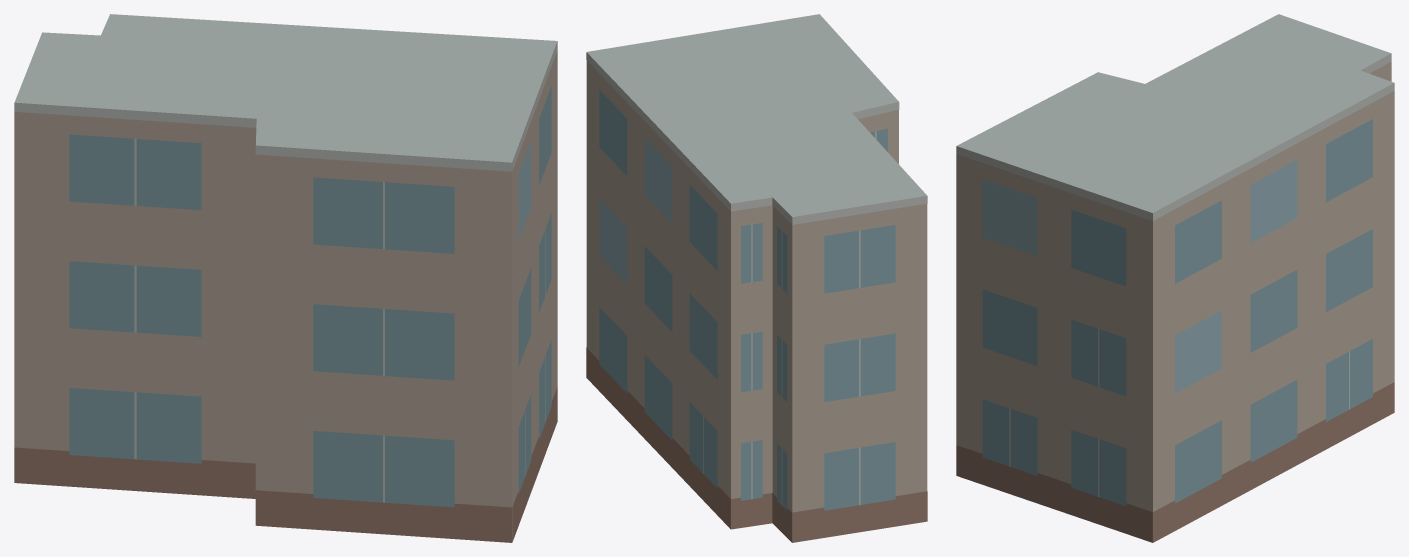
The model's file is survey-upis-32546760.glb.
The picture shows the model from 3 angles, left to right: view 1: azimuth 30°, elevation 25°; view 2: azimuth 150°, elevation 25°; view 3: azimuth 270°, elevation 25°; orthographic projection. The views are drawn at different scales.
Visible parts, largest first — view 1: survey-upis-32546760.tmp; view 2: survey-upis-32546760.tmp; view 3: survey-upis-32546760.tmp.
Boxes of the visible parts, x1=… form: survey-upis-32546760.tmp: x1=14, y1=14, x2=557, y2=542; survey-upis-32546760.tmp: x1=586, y1=14, x2=927, y2=542; survey-upis-32546760.tmp: x1=956, y1=14, x2=1394, y2=542.
Bounding box in the file's own units: 13.22 × 10.2 × 12.3.
